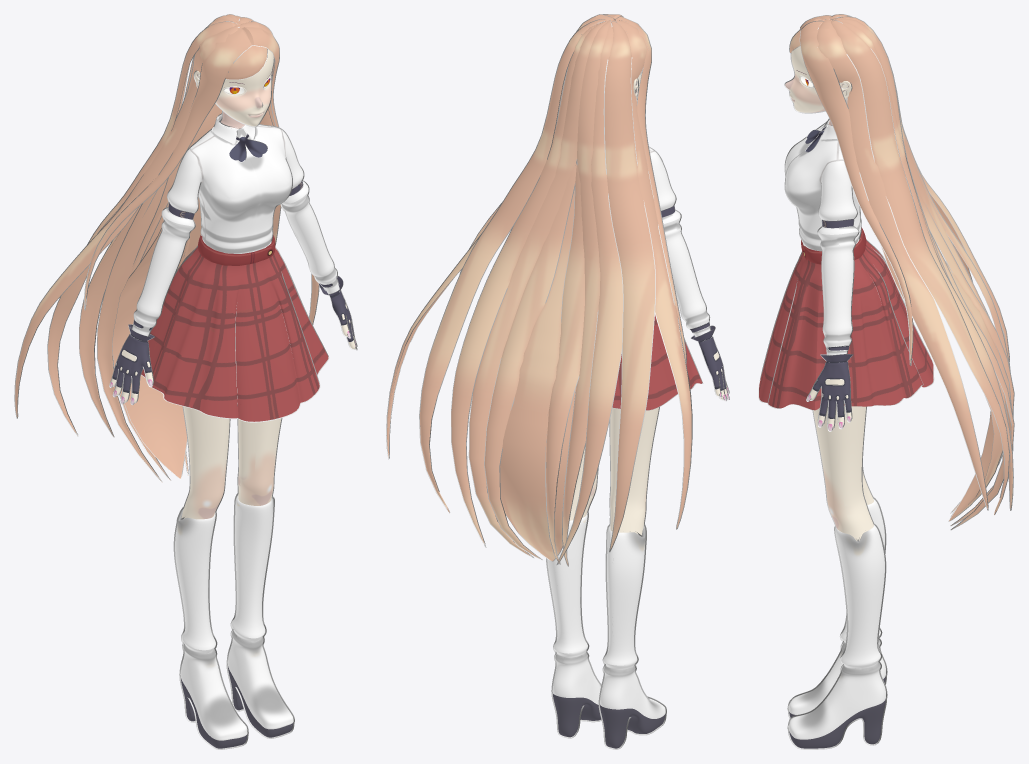
The model's file is Qwerty.glb.
3 views of the same model, side by side, from view 1: azimuth 30°, elevation 25°; view 2: azimuth 150°, elevation 25°; view 3: azimuth 270°, elevation 25° (orthographic).
Visible parts, largest first — view 1: FrontHair, Skirt, Shoe??, Sweater, MainBody, Gloves, Belt, Bow; view 2: FrontHair, Shoe??, MainBody, Sweater, Skirt, Gloves; view 3: FrontHair, Skirt, Shoe??, Sweater, MainBody, Gloves, Belt.
Part boxes in pixels (x1=…): FrontHair: x1=14, y1=14, x2=319, y2=482; Skirt: x1=141, y1=236, x2=329, y2=422; Shoe??: x1=173, y1=493, x2=294, y2=749; Sweater: x1=130, y1=113, x2=339, y2=339; MainBody: x1=109, y1=49, x2=357, y2=728; Gloves: x1=112, y1=180, x2=354, y2=394; Belt: x1=198, y1=235, x2=275, y2=265; Bow: x1=229, y1=134, x2=267, y2=162; FrontHair: x1=386, y1=14, x2=692, y2=566; Shoe??: x1=546, y1=511, x2=666, y2=749; MainBody: x1=547, y1=73, x2=729, y2=708; Sweater: x1=649, y1=146, x2=712, y2=341; Skirt: x1=612, y1=315, x2=703, y2=410; Gloves: x1=661, y1=205, x2=726, y2=391; FrontHair: x1=789, y1=14, x2=1014, y2=530; Skirt: x1=758, y1=235, x2=934, y2=410; Shoe??: x1=787, y1=497, x2=887, y2=749; Sweater: x1=784, y1=119, x2=861, y2=362; MainBody: x1=784, y1=46, x2=885, y2=700; Gloves: x1=812, y1=219, x2=854, y2=418; Belt: x1=801, y1=227, x2=866, y2=264.
Bounding box in the file's own units: 0.7758 × 1.75 × 0.5702.
Materials: 11 (10 with a texture image).
